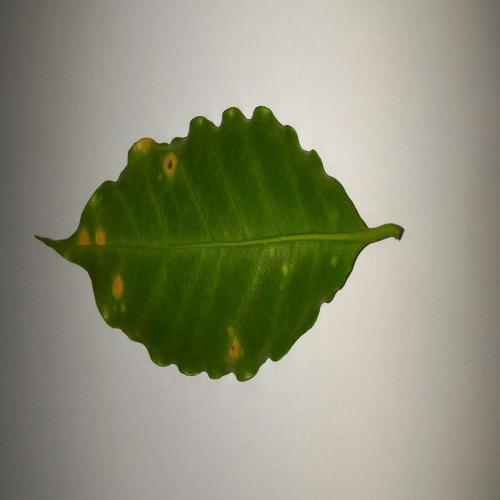phoma: (133, 138, 155, 157)
